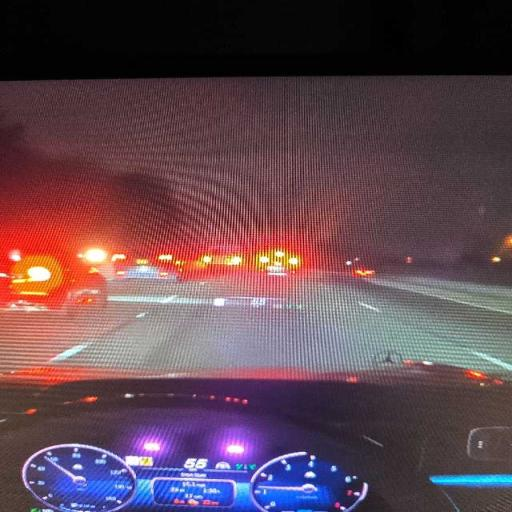car: (0, 361, 511, 511), (3, 254, 107, 314), (116, 262, 179, 281), (353, 269, 375, 277)
lane: (0, 274, 511, 372), (361, 281, 511, 372)
